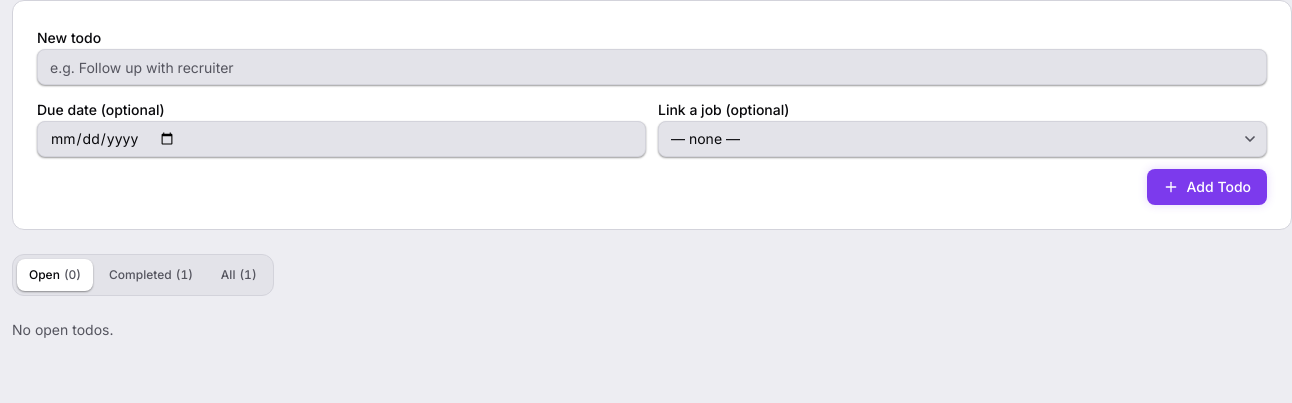
Test: TodoList › does not put a completed past-due todo under Overdue
Click the button "Completed (1)" at coordinates (151, 275), box [97, 259, 205, 291]
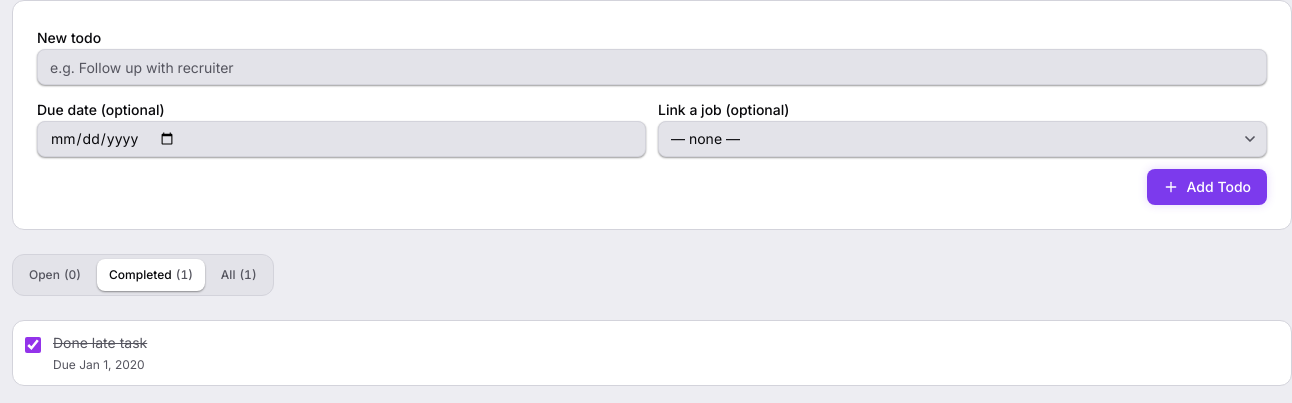
Expected: the text "Done late task" is shown, [53, 334, 147, 351]
